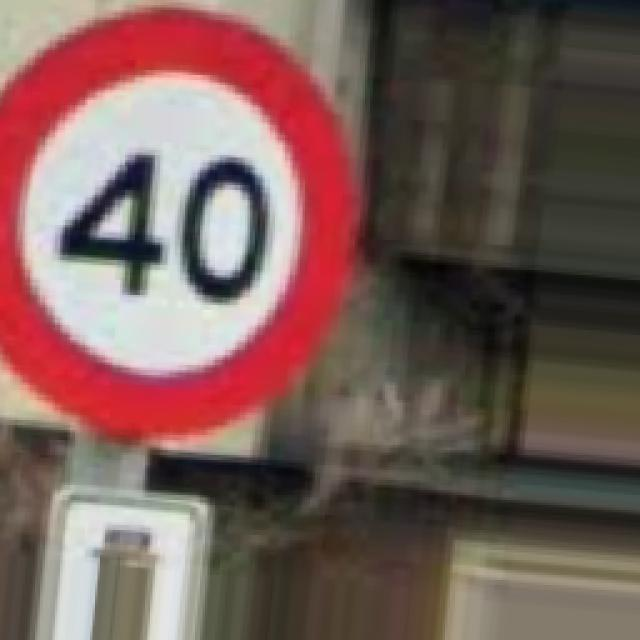Speed Limit -40-: (0, 8, 355, 440)
